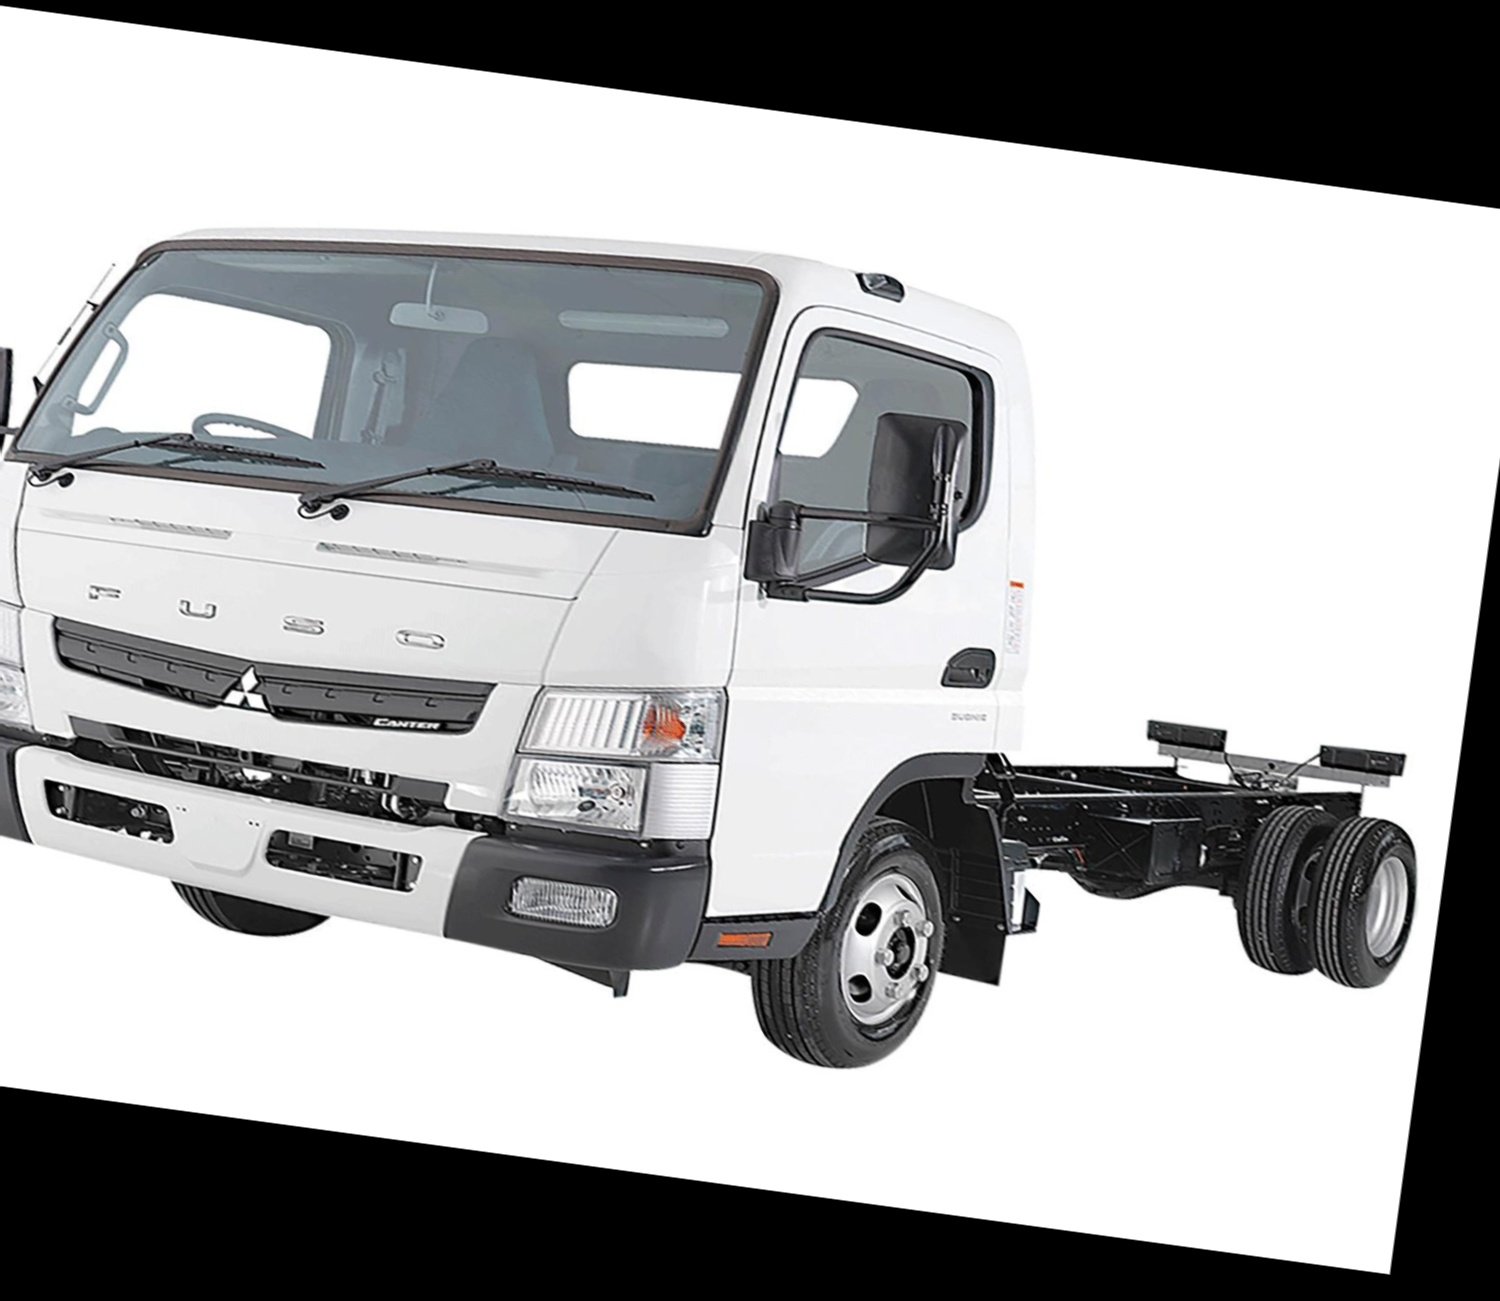truck: (0, 143, 1486, 1139)
